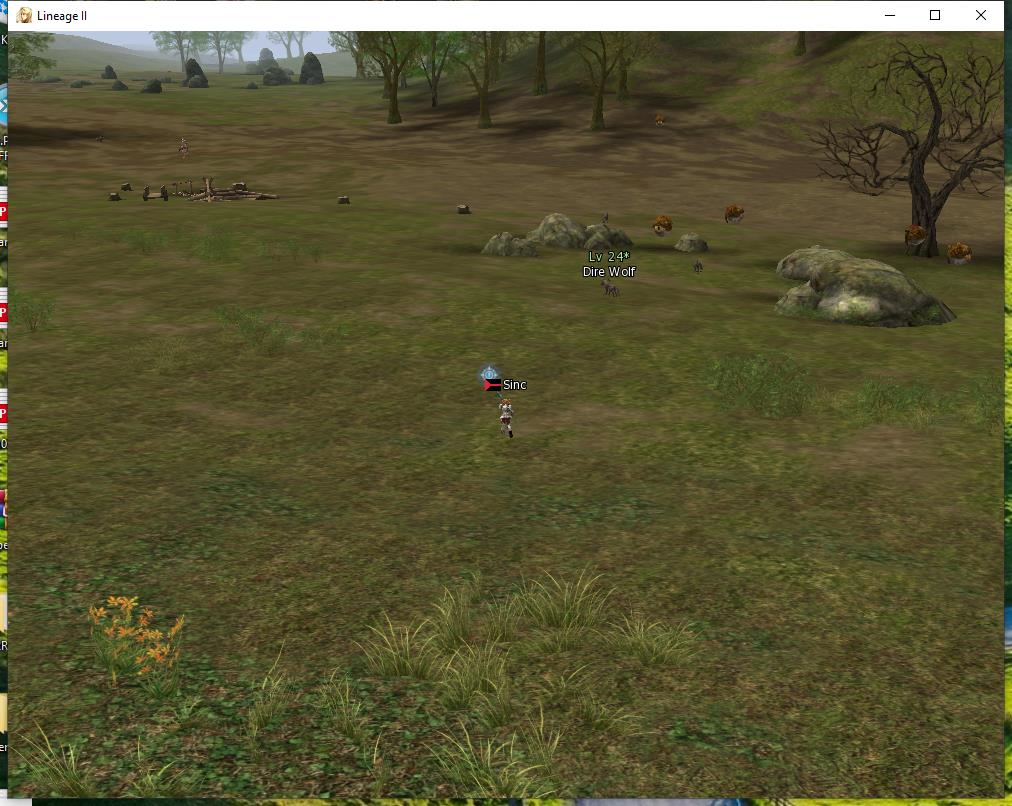monster: (570, 250, 641, 311), (643, 204, 679, 245), (945, 236, 982, 273), (902, 218, 935, 251), (723, 194, 749, 229), (655, 110, 674, 133), (689, 254, 706, 278)
